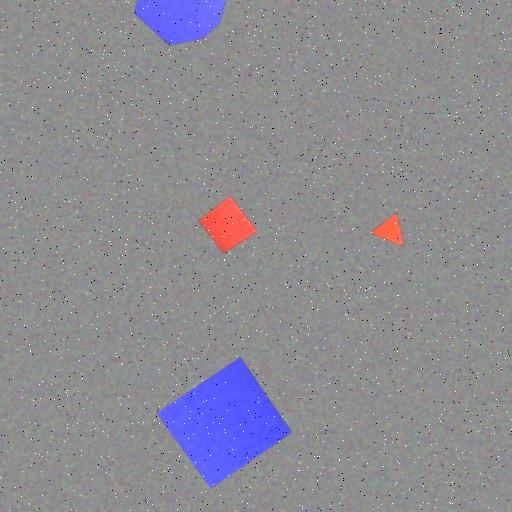BLUE_SQUARE: (156, 357, 293, 489)
RED_SQUARE: (196, 196, 258, 254)
